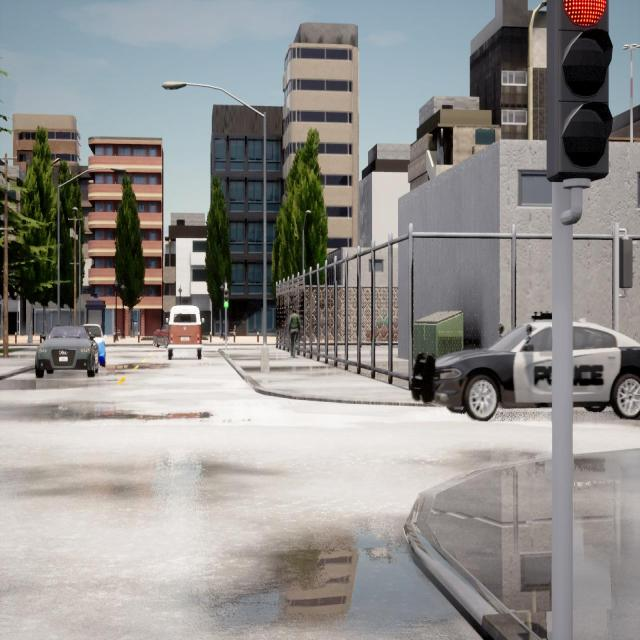Pedestrian: (288, 307, 300, 357)
Vehicle: (410, 319, 640, 419), (36, 325, 98, 378), (169, 305, 202, 360), (82, 324, 106, 367), (154, 324, 169, 347)
traffic_light: (546, 0, 609, 175), (619, 239, 633, 288), (223, 288, 229, 308)
